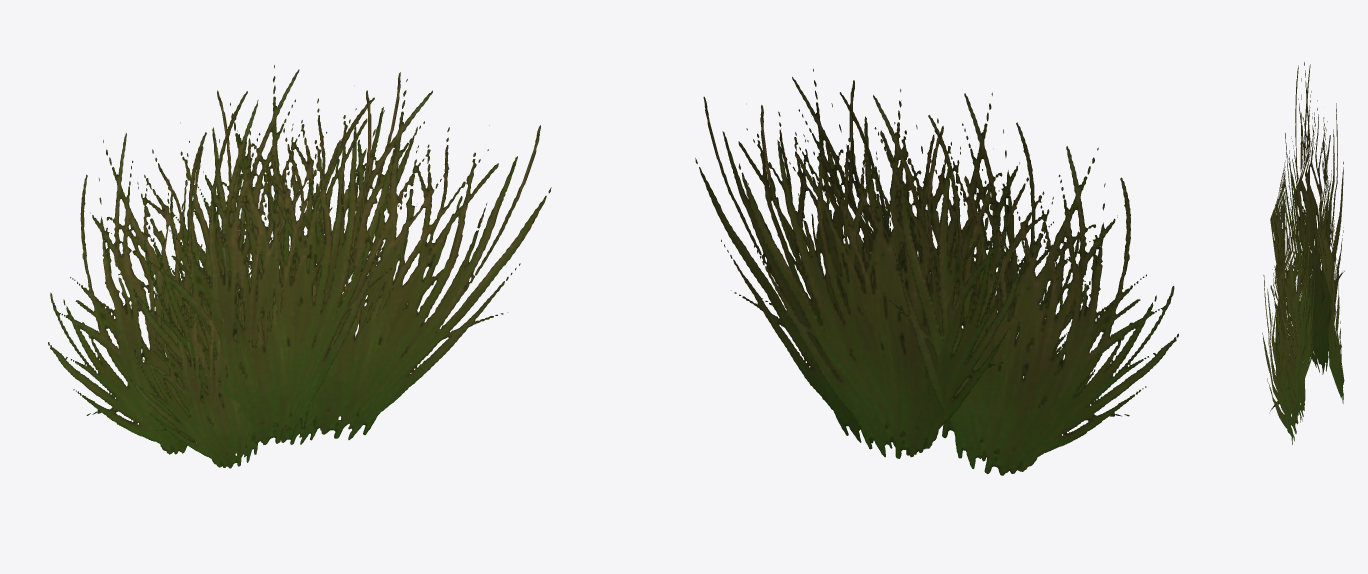
File: GrassClump03.fbx
3 renders of one model, left to right at view 1: azimuth 30°, elevation 25°; view 2: azimuth 150°, elevation 25°; view 3: azimuth 270°, elevation 25°, orthographic. The views are drawn at different scales.
Parts seen in each view (by area): view 1: GrassClump03; view 2: GrassClump03; view 3: GrassClump03.
Part boxes in pixels (x1,y1,x2,y2): GrassClump03: (48,65,551,468); GrassClump03: (695,68,1178,475); GrassClump03: (1262,62,1344,444).
Bounding box in the file's own units: 6.21 × 5.15 × 1.13.
